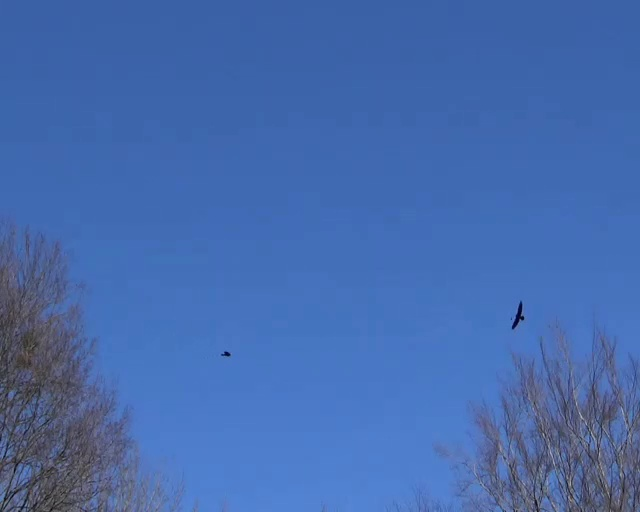BIRD: (511, 301, 525, 329)
